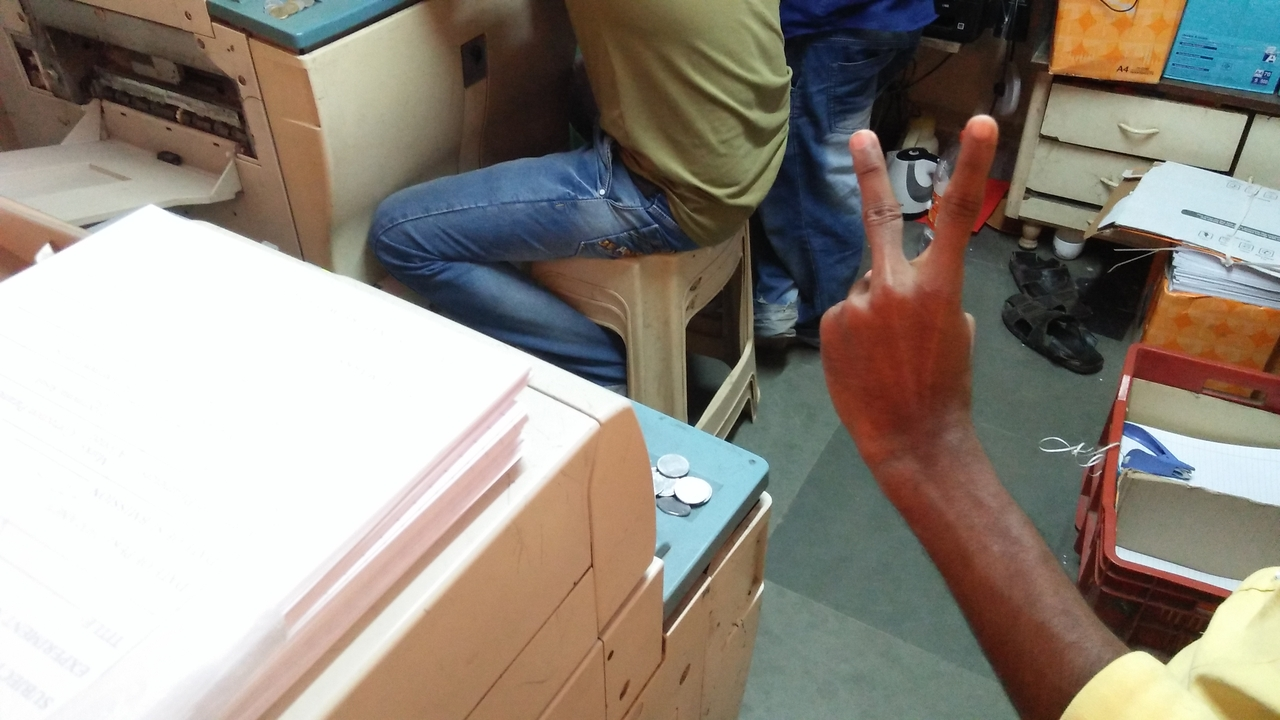fingertip: (958, 106, 1008, 150), (844, 118, 890, 162)
